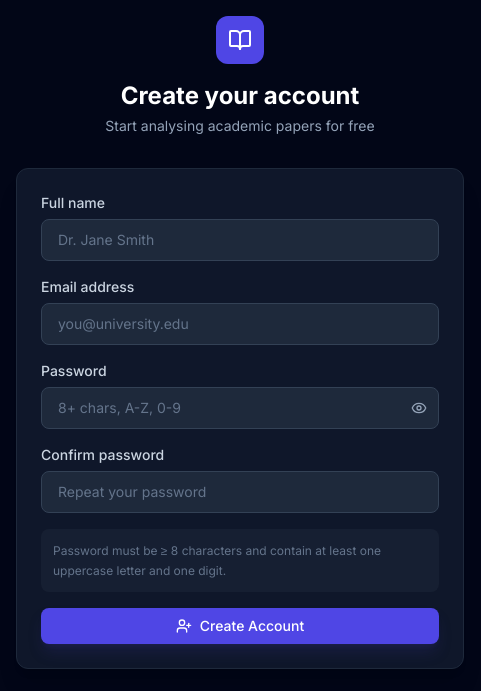
Scenario: RegisterPage › validates short password and missing uppercase/digit rules
In the field labelled "Full name": (240, 240) [41,219,439,261], type "Dr. Alice"
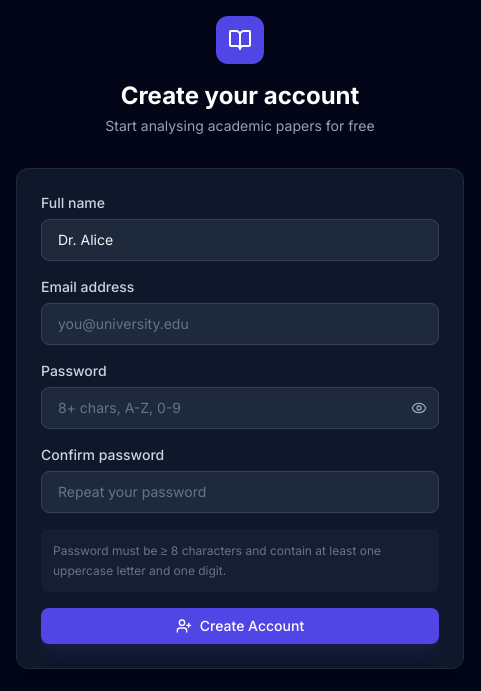
In the field labelled "Email address": (240, 324) [41,303,439,345], type "alice@example.com"
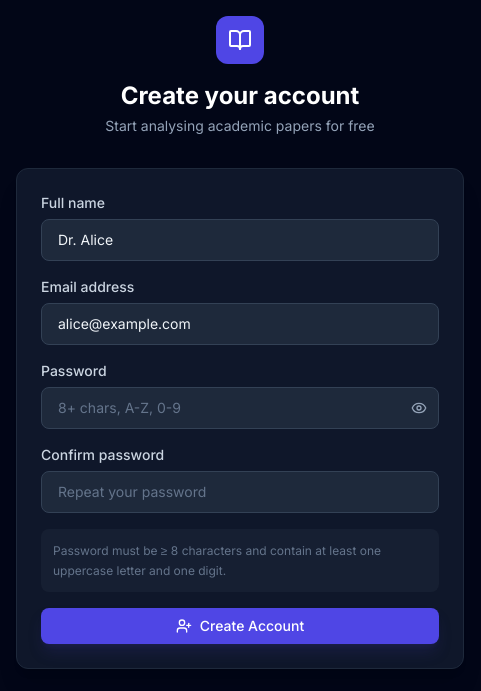
In the password field labelled "Password": (240, 408) [41,387,439,429], type "short"
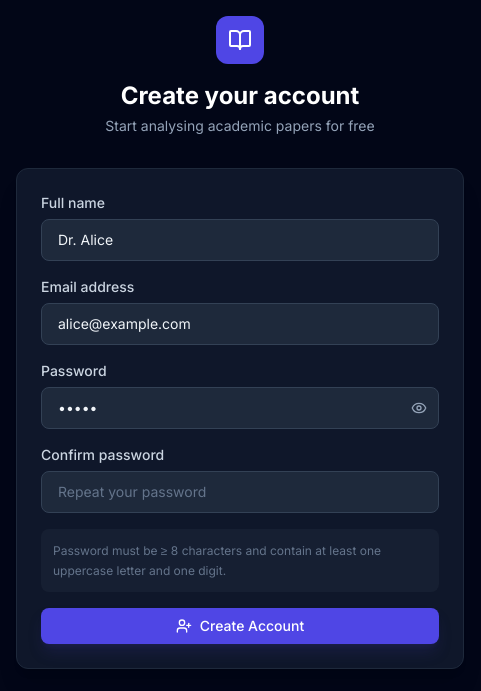
In the password field labelled "Confirm password": (240, 492) [41,471,439,513], type "short"
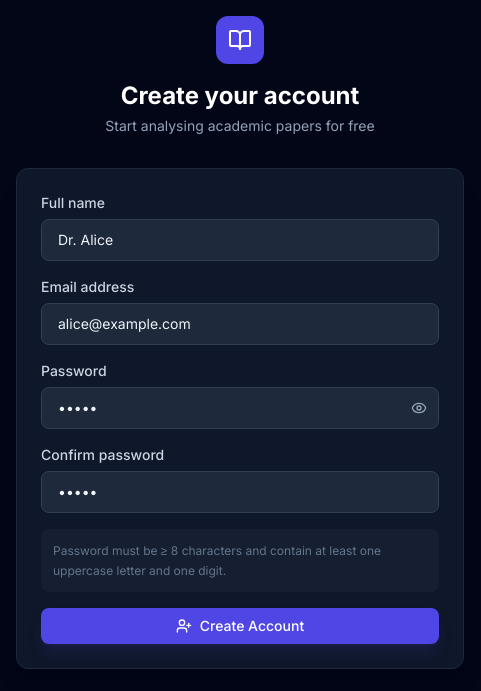
Click the button "Create Account": (240, 626) [41,608,439,644]
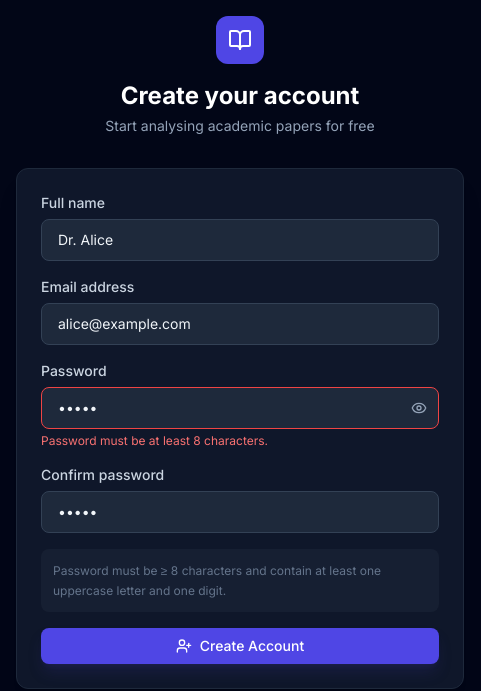
expect the text "Password must be at least 8 characters." is shown: met, box [41,433,268,448]
